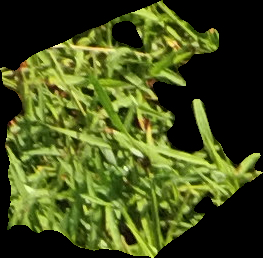grass: (1, 1, 262, 257)
